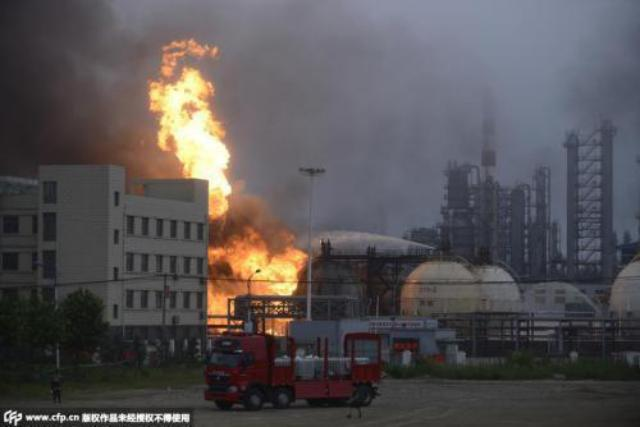fire: (210, 227, 300, 279), (162, 111, 222, 151), (150, 68, 202, 111), (179, 140, 225, 180), (204, 175, 230, 216), (250, 278, 294, 294), (207, 278, 227, 312), (158, 39, 178, 72), (180, 38, 212, 54), (264, 315, 284, 334)
